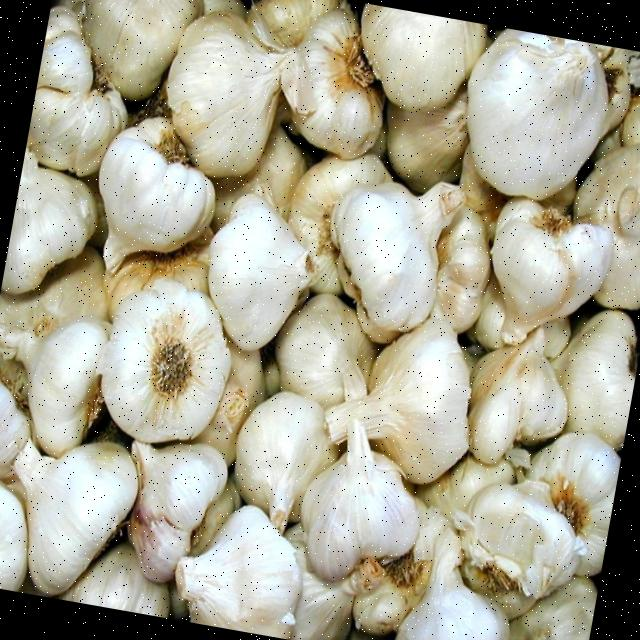garlic: (68, 32, 597, 593), (0, 384, 138, 593), (166, 12, 315, 177), (466, 29, 608, 200), (325, 318, 470, 483), (97, 279, 230, 442), (330, 182, 465, 342), (300, 418, 420, 581), (14, 438, 137, 594), (453, 479, 585, 617), (491, 196, 614, 344), (175, 504, 302, 638), (208, 193, 316, 350), (234, 391, 338, 531), (128, 439, 227, 582), (1, 147, 97, 294), (292, 8, 384, 159), (468, 327, 566, 464), (526, 434, 620, 576), (395, 526, 509, 640)
